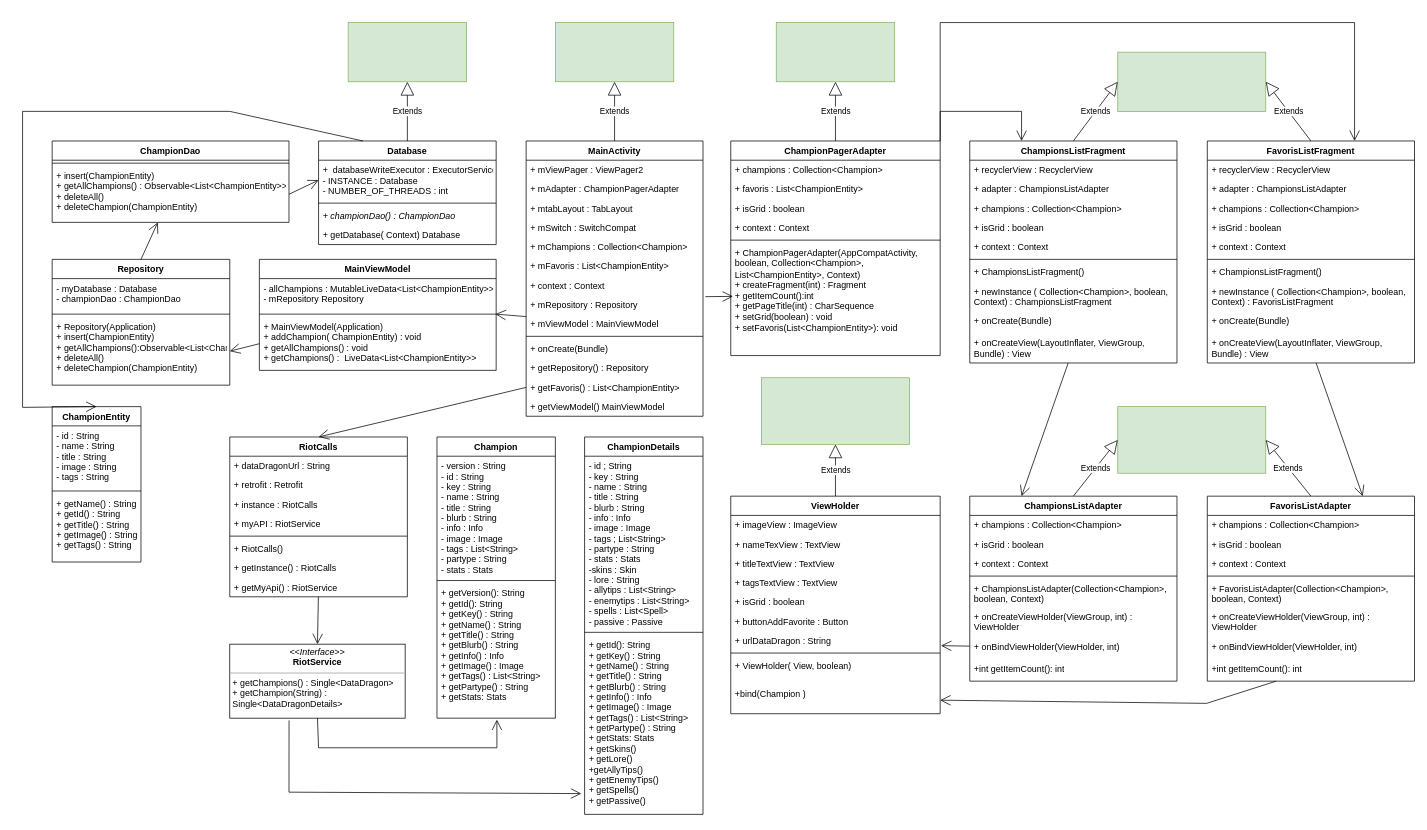
Image size: 1427x830. Some labels were removed from this diagram. Here are the shapes that lost their labels. From the top down, the centre of each, then its label:
At point (407, 52): "«interface» RoomDatabase".
At point (614, 52): "«interface» AppCompatActivity".
At point (835, 52): "«interface» FragmentStateAdapter".
At point (1191, 81): "«interface» Fragment".
At point (835, 410): "«interface» RecyclerView.ViewHolder".
At point (1191, 439): "«interface» RecyclerView.Adapter".
